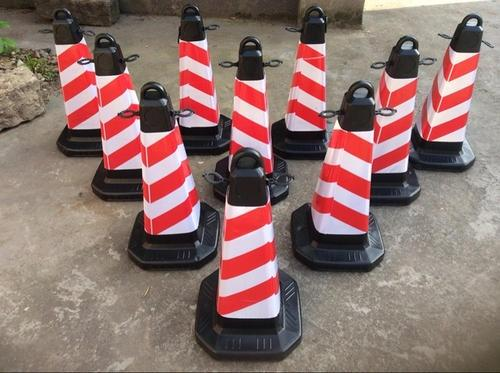cone_barrel: (199, 140, 296, 352), (300, 76, 375, 256), (134, 83, 207, 253), (411, 9, 483, 165), (218, 35, 280, 196), (273, 7, 335, 152), (366, 35, 420, 195), (91, 29, 141, 189), (167, 5, 226, 139), (50, 6, 99, 149)
